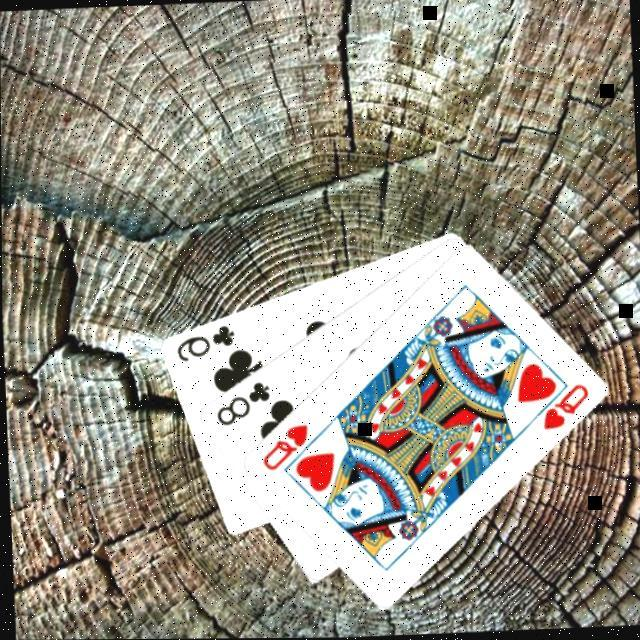6C: (173, 320, 238, 364)
8C: (212, 376, 275, 427)
QH: (523, 379, 593, 433), (258, 419, 312, 473)
